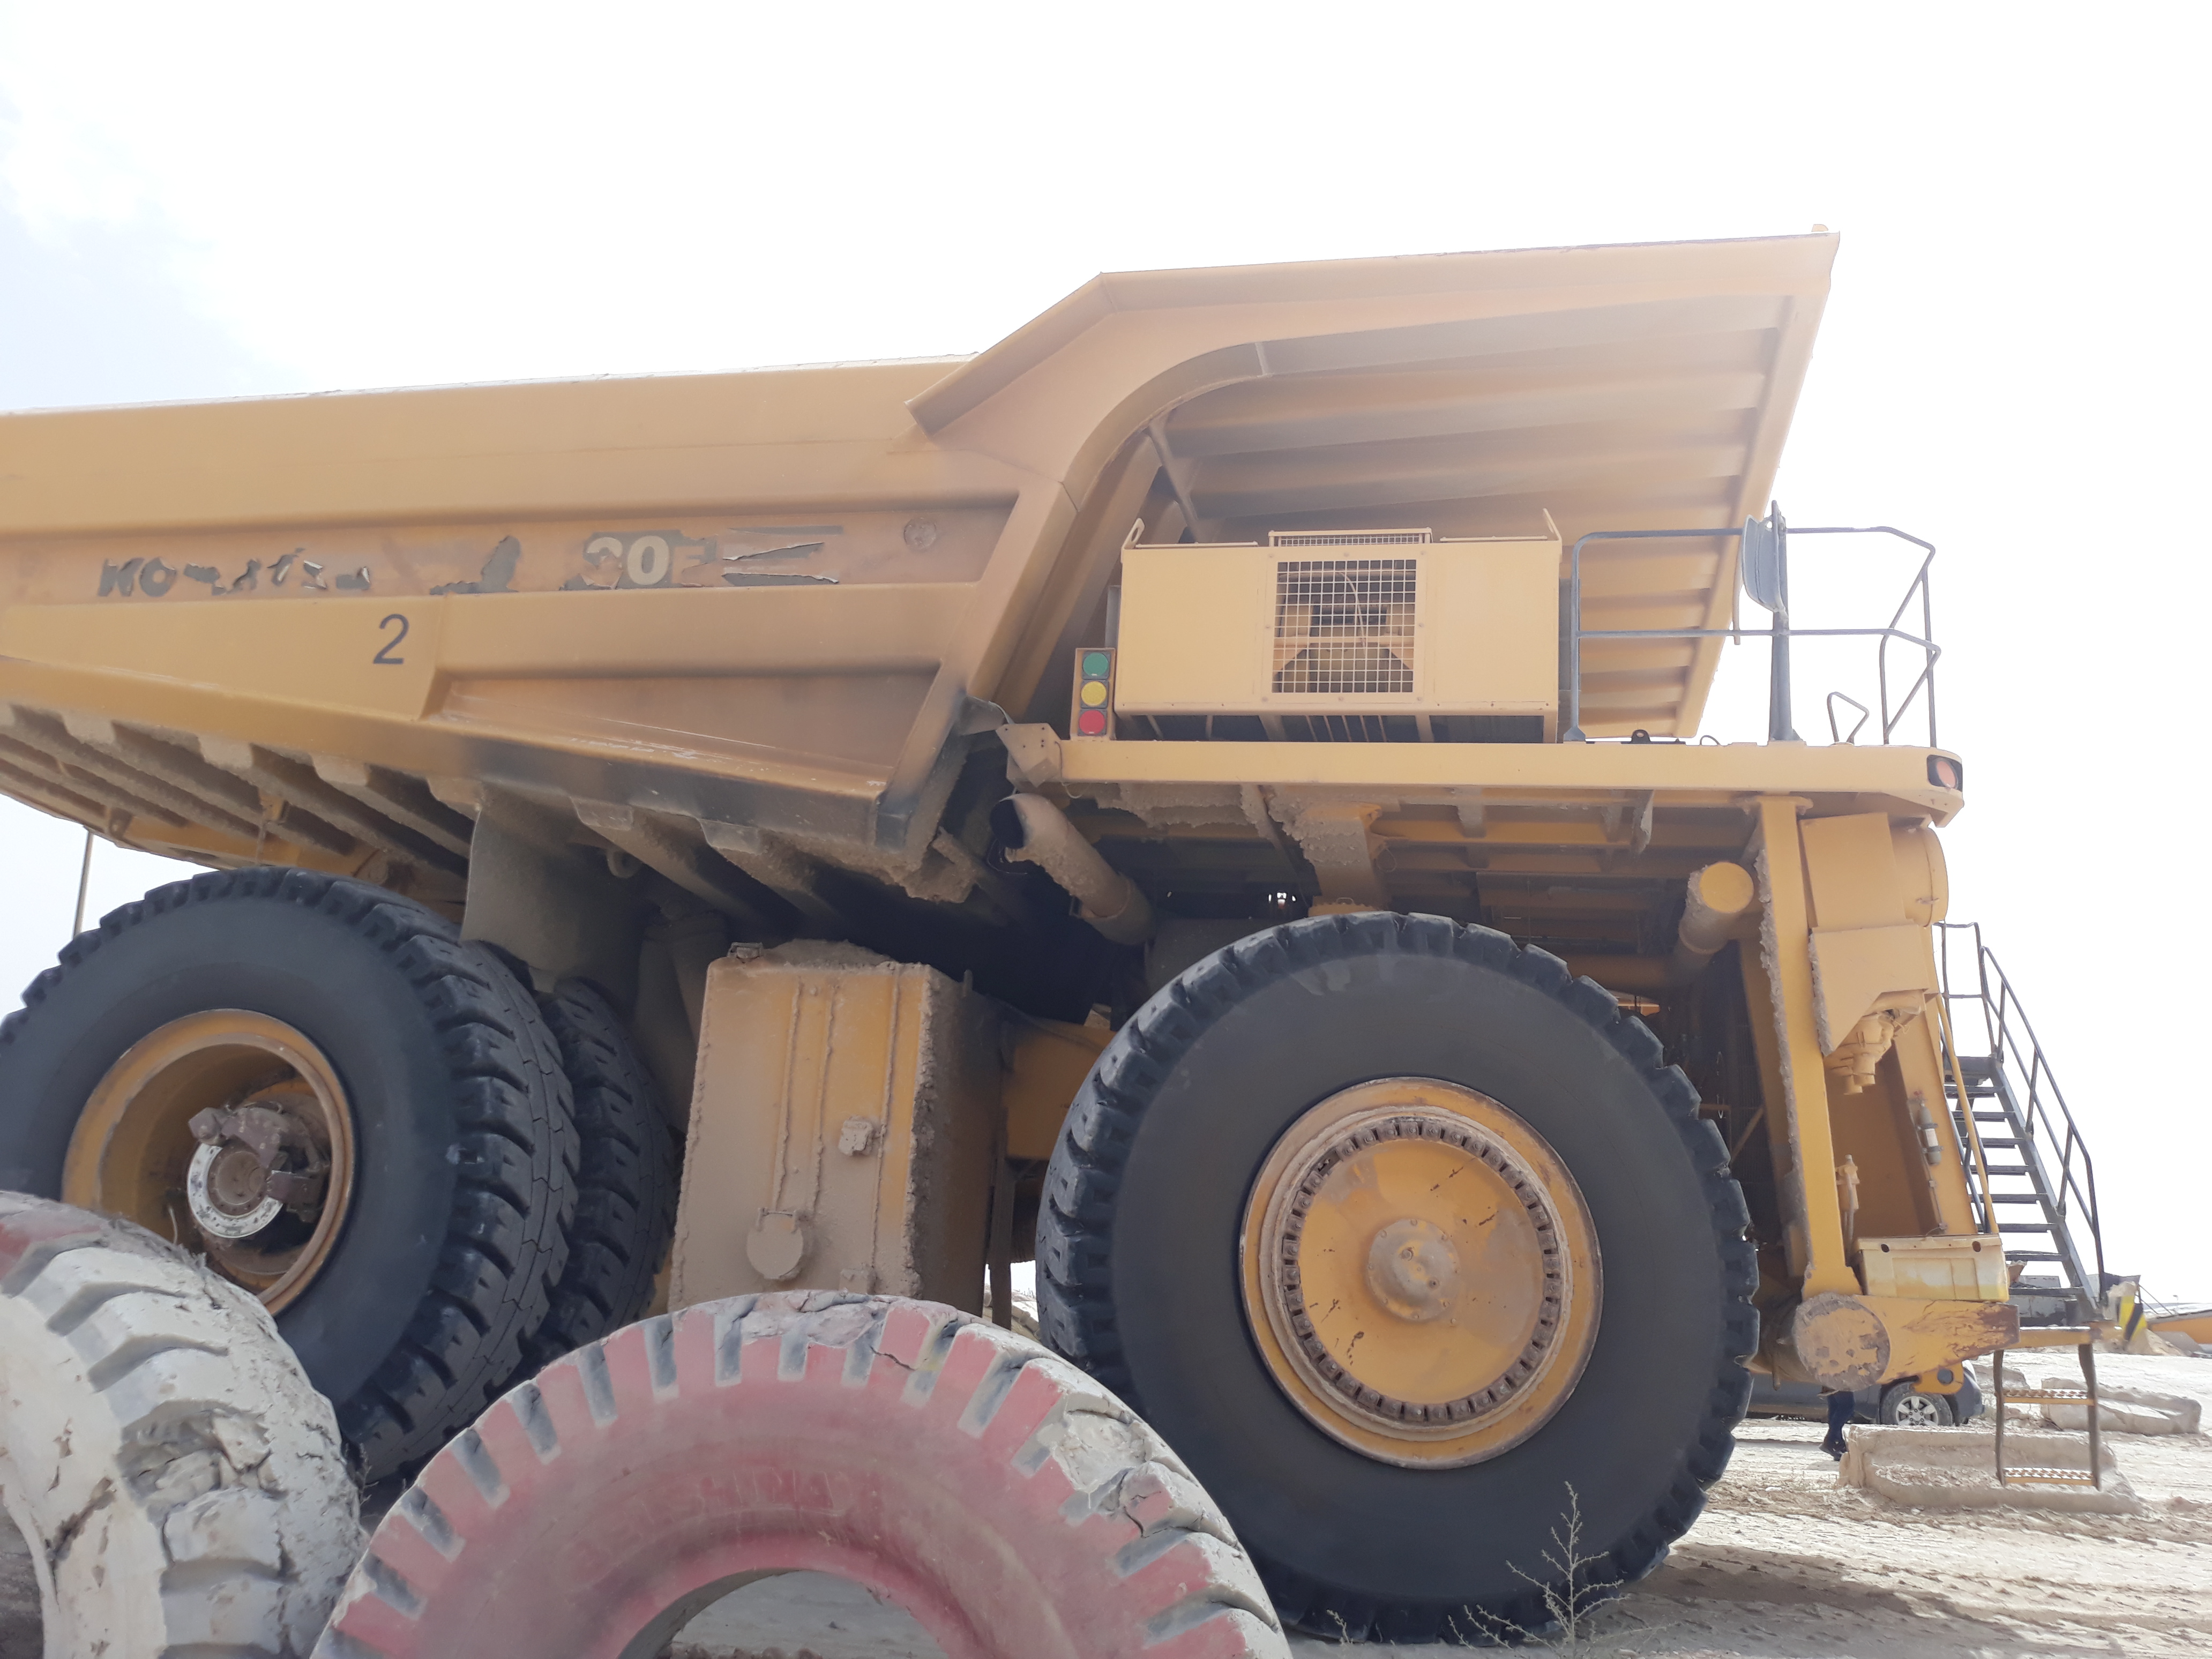camion: (0, 214, 2132, 1631)
